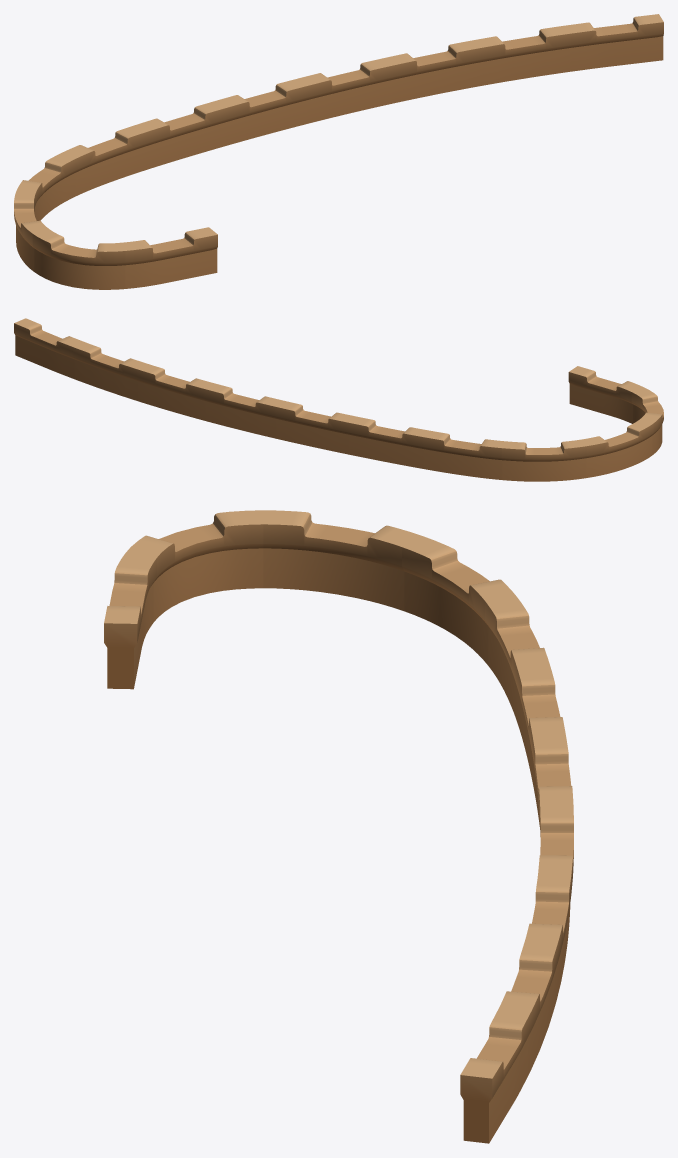
Rendered from Castle Wall 3.fbx.
3 renders of one model, top to bottom at view 1: azimuth 30°, elevation 25°; view 2: azimuth 150°, elevation 25°; view 3: azimuth 270°, elevation 25°, orthographic. The views are drawn at different scales.
Parts seen in each view (by area): view 1: Castle Wall 3; view 2: Castle Wall 3; view 3: Castle Wall 3.
Boxes of the visible parts, box(x1,y1,x2,y2) form: Castle Wall 3: box(14, 14, 663, 289); Castle Wall 3: box(14, 318, 663, 481); Castle Wall 3: box(104, 510, 573, 1143).
Size of the model in its own units: 1235 by 66.2 by 432.
